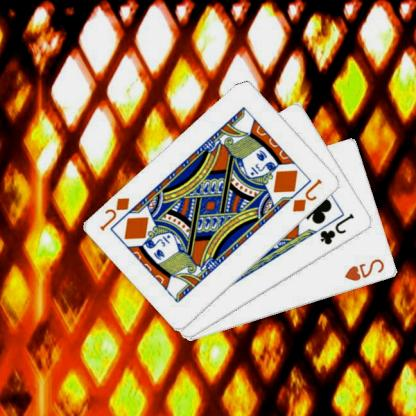2H: (343, 256, 388, 283)
JC: (319, 210, 358, 246)
JD: (292, 176, 326, 214), (99, 194, 133, 232)
